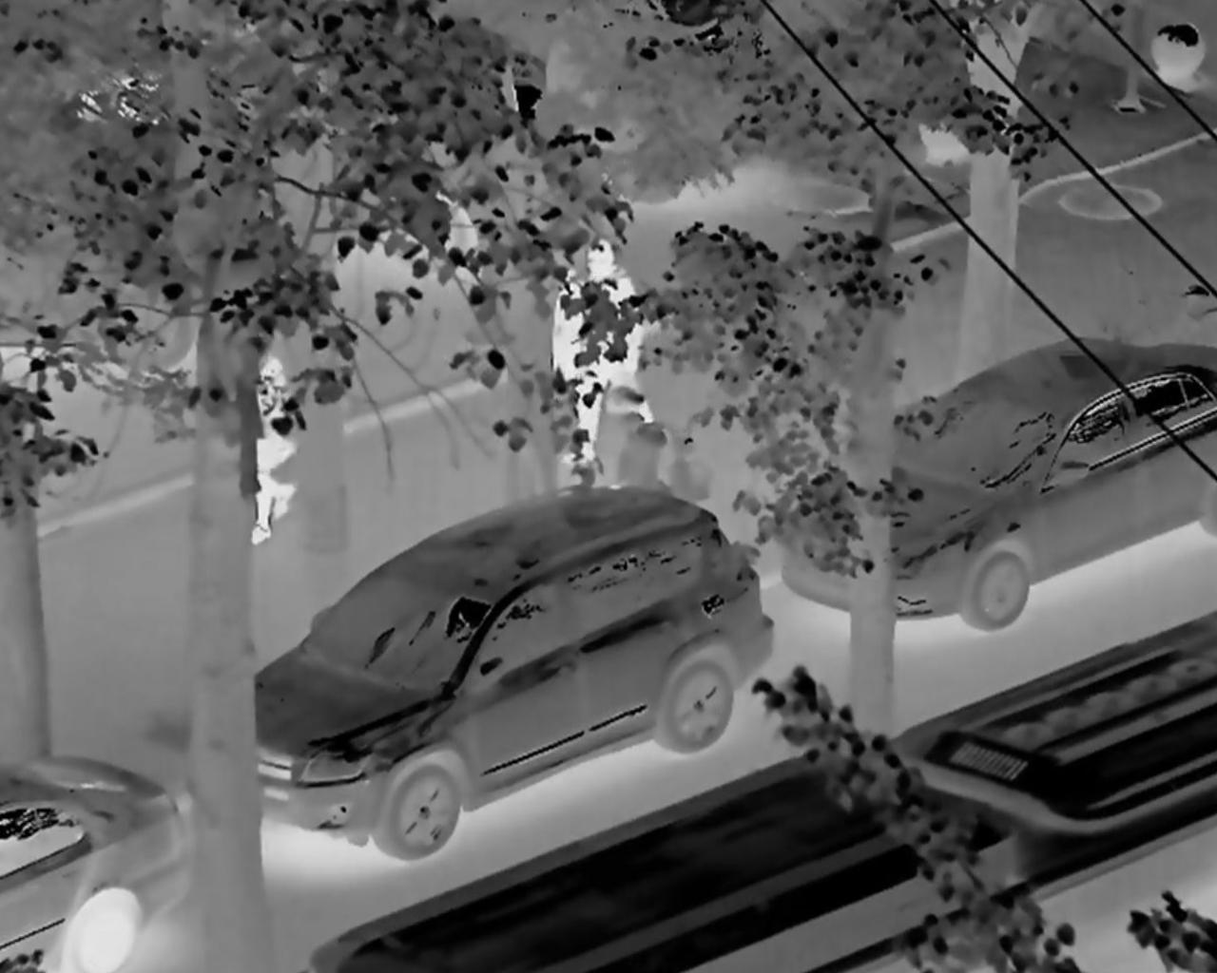person: (581, 241, 645, 459), (533, 260, 599, 440), (234, 349, 294, 545)
